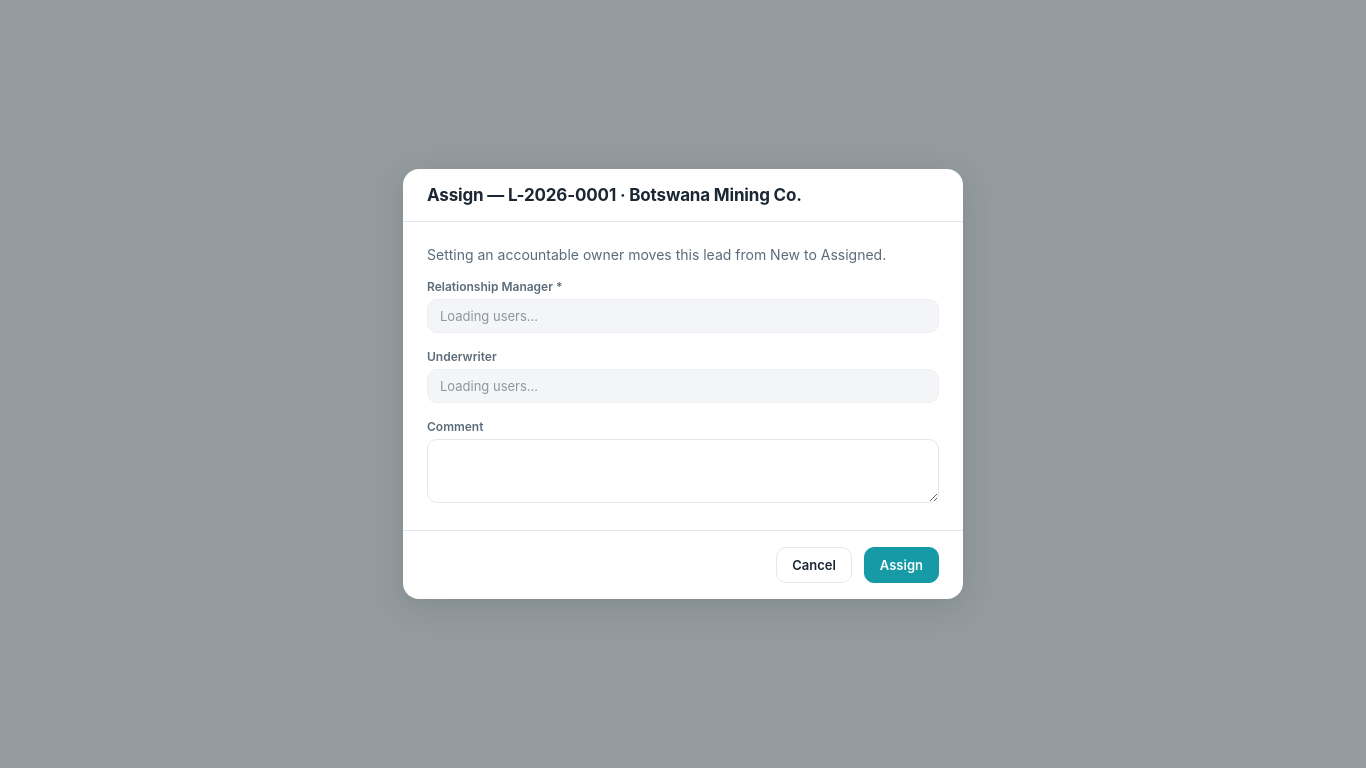
Test case: AssignDialog › click_WhenConfirmedWithoutAccountableOwner_ShouldShowInlineErrorAndNotConfirm
Click the button with test id "dialog-primary-button" at (901, 565), box 864,547 -> 939,583
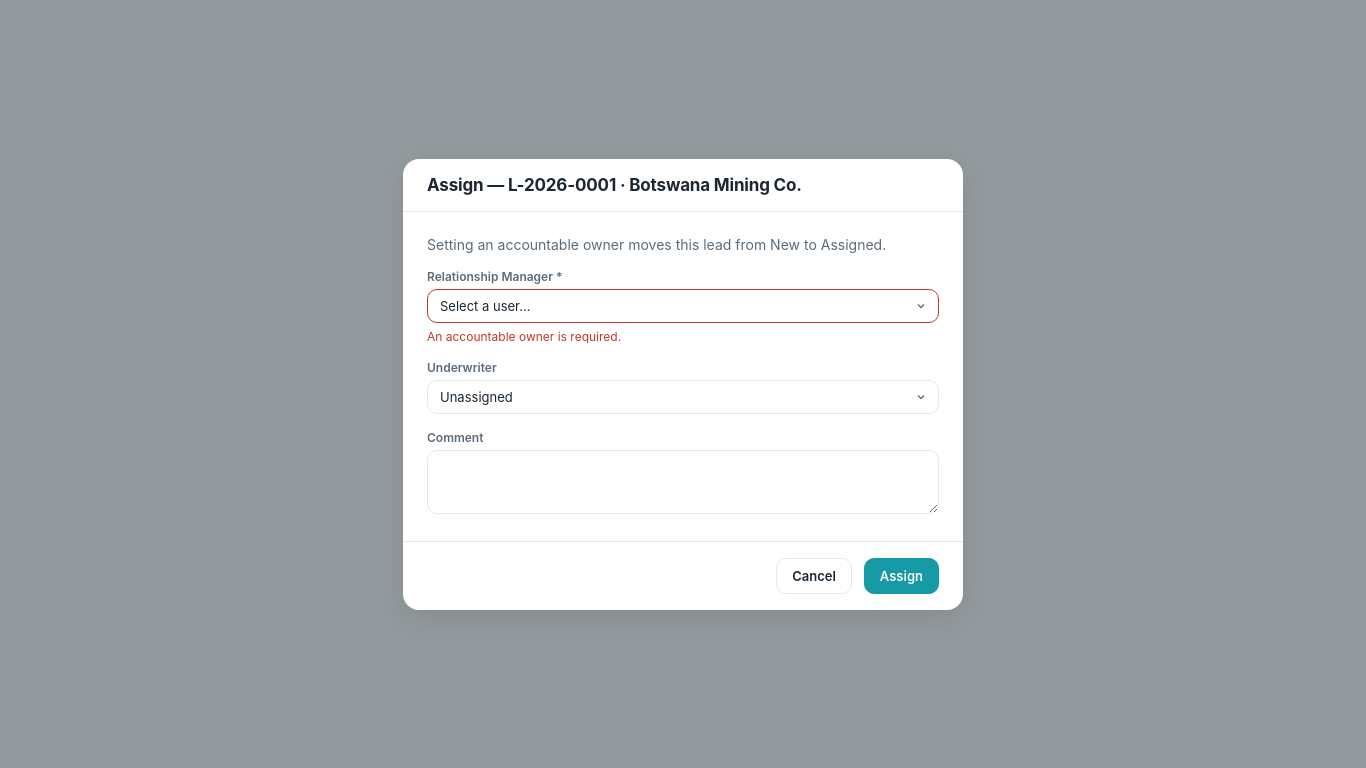
Now the message with test id "field-error" reads "An accountable owner is required.", box 427,328 -> 621,344
